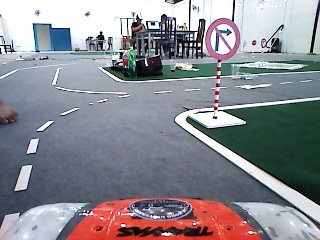ban: (202, 16, 242, 62)
